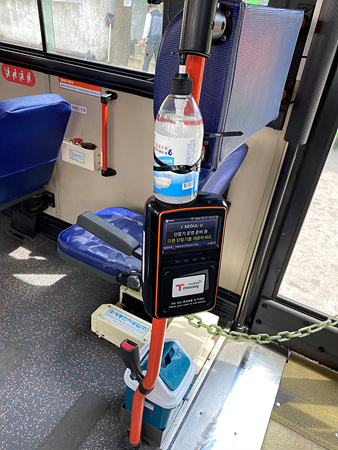terminal: (145, 189, 225, 323)
